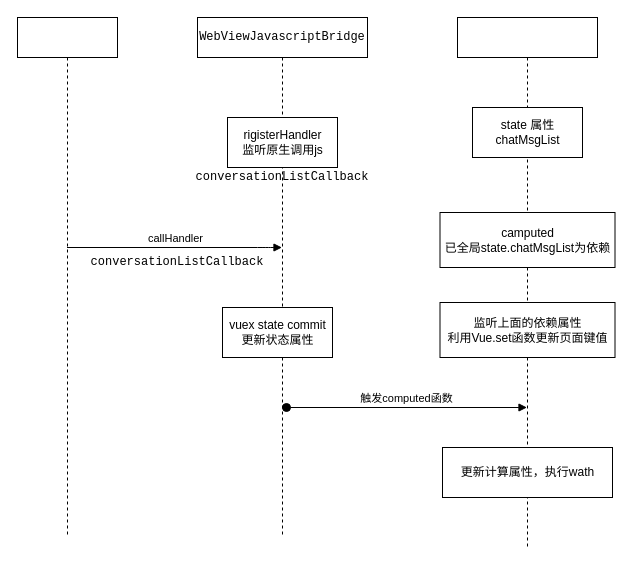
This 633x565 diagram has some shape labels left out. The box of each missing label's shape, as (x1, y1, x2, y2) in pixels:
前端: (456, 16, 598, 548)
原生: (16, 16, 118, 538)
